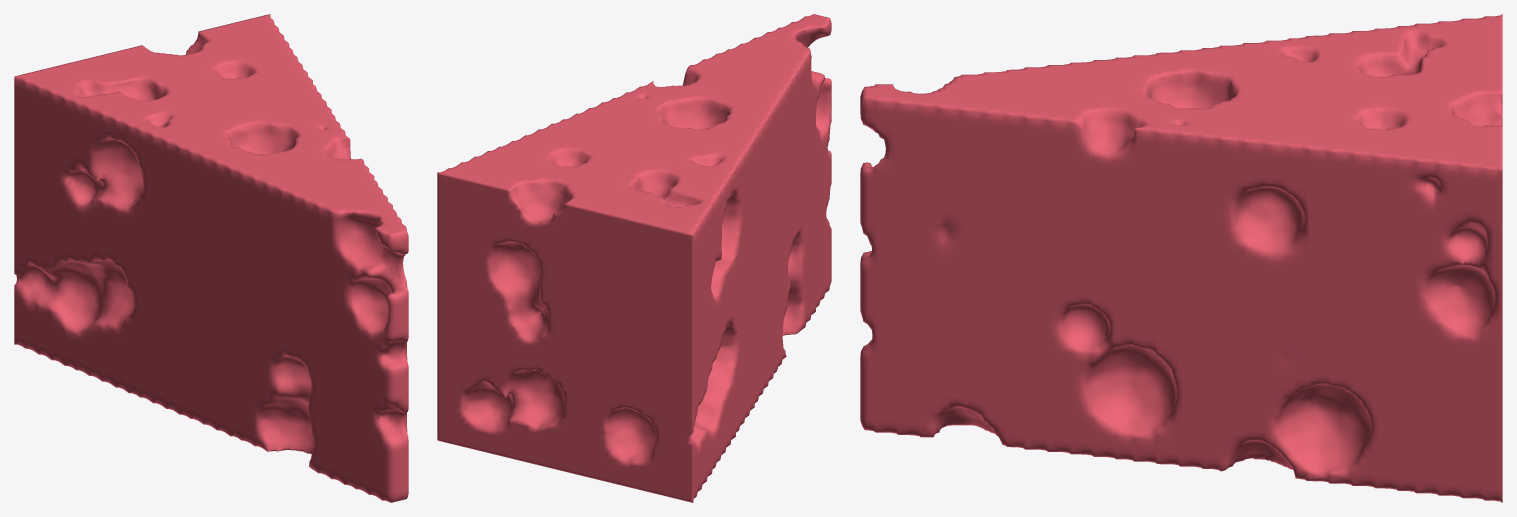
File: cheeseRed.fbx
3 renders of one model, left to right at view 1: azimuth 30°, elevation 25°; view 2: azimuth 150°, elevation 25°; view 3: azimuth 270°, elevation 25°, orthographic. The views are drawn at different scales.
Visible parts, largest first — view 1: Cube; view 2: Cube; view 3: Cube.
Part boxes in pixels (left/top/right/bottom): Cube: left=14, top=14, right=408, bottom=502; Cube: left=437, top=14, right=831, bottom=502; Cube: left=860, top=14, right=1502, bottom=502.
Size of the model in its own units: 200 by 200 by 349.
